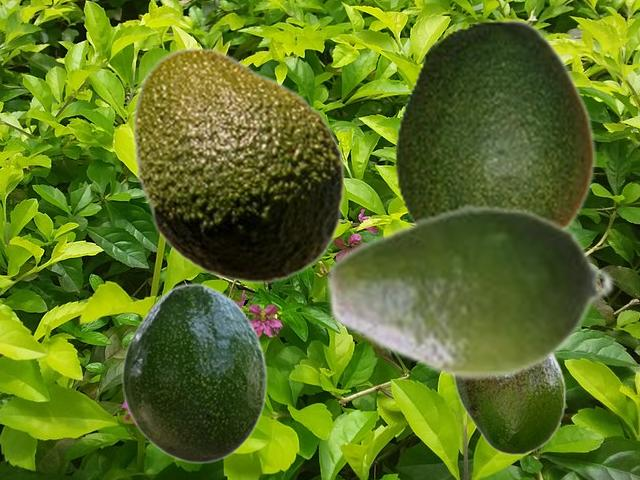avocado: (323, 201, 615, 382), (131, 46, 345, 284), (394, 18, 595, 227), (121, 283, 266, 463), (453, 356, 565, 454)
